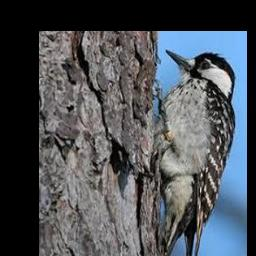Woodpecker: (132, 50, 236, 256)
